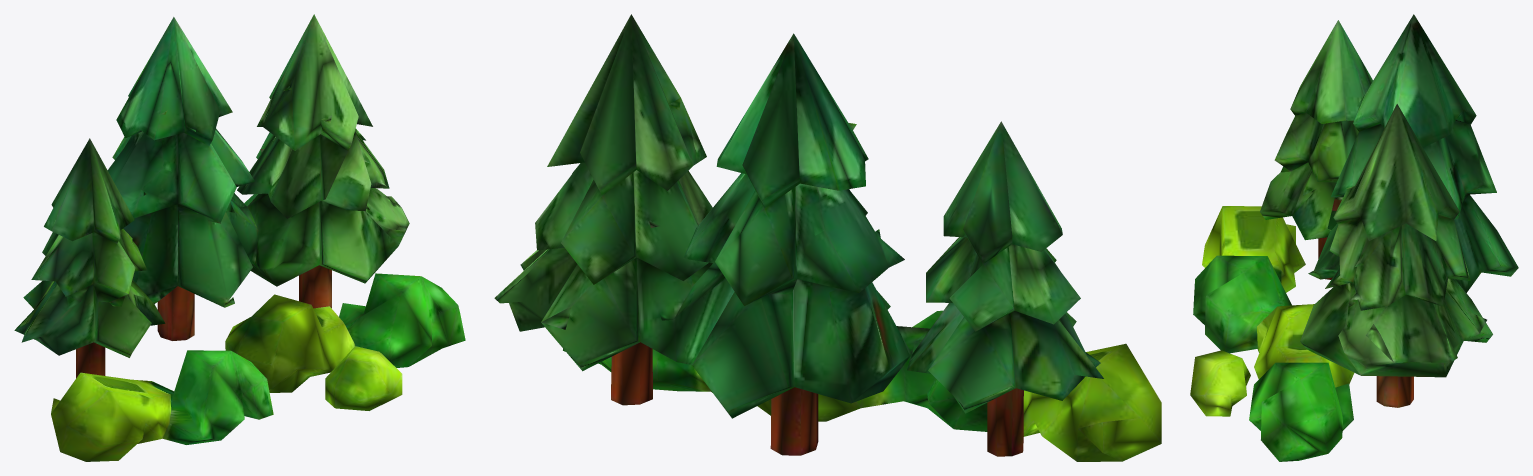
The model's file is prop_tree_group.glb.
The picture shows the model from 3 angles, left to right: view 1: azimuth 30°, elevation 25°; view 2: azimuth 150°, elevation 25°; view 3: azimuth 270°, elevation 25°; orthographic projection. The views are drawn at different scales.
Parts seen in each view (by area): view 1: group; view 2: group; view 3: group.
Part boxes in pixels (x1,y1,x2,y2): group: (14,14,465,461); group: (494,14,1161,461); group: (1190,14,1518,461).
Bounding box in the file's own units: 9.1 × 7 × 5.97.
Materials: 1 (1 with a texture image).
